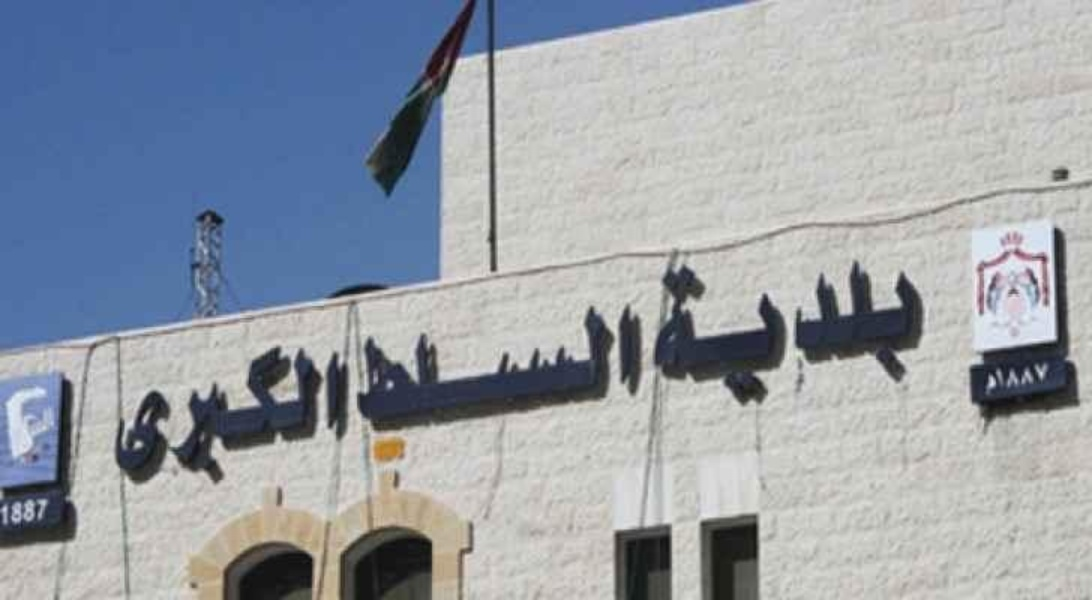text: (657, 250, 672, 417), (673, 250, 688, 417), (689, 250, 704, 417), (705, 250, 720, 417), (721, 250, 736, 417), (737, 250, 752, 417), (753, 250, 768, 417), (769, 250, 784, 417), (785, 250, 800, 417), (801, 250, 816, 417), (817, 250, 832, 417), (833, 250, 848, 417), (849, 250, 864, 417), (865, 250, 880, 417), (881, 250, 896, 417), (897, 250, 912, 417), (913, 250, 928, 417), (113, 329, 128, 487), (129, 329, 144, 487), (145, 329, 160, 487), (161, 329, 176, 487), (177, 329, 192, 487), (193, 329, 208, 487), (209, 329, 224, 487), (225, 329, 240, 487), (241, 329, 256, 487), (257, 329, 272, 487), (273, 329, 288, 487), (289, 329, 304, 487), (305, 329, 320, 487), (321, 329, 336, 487), (337, 329, 352, 487), (353, 295, 368, 430), (369, 295, 384, 430), (385, 295, 400, 430), (401, 295, 416, 430), (417, 295, 432, 430), (433, 295, 448, 430), (449, 295, 464, 430), (465, 295, 480, 430), (481, 295, 496, 430), (497, 295, 512, 430), (513, 295, 528, 430), (529, 295, 544, 430), (545, 295, 560, 430), (561, 295, 576, 430), (577, 295, 592, 430), (593, 295, 608, 430), (609, 295, 624, 430), (625, 295, 640, 430), (644, 250, 656, 417), (929, 250, 940, 417), (993, 364, 1008, 398), (1009, 364, 1024, 398), (1025, 364, 1040, 398), (1041, 364, 1056, 398), (1, 496, 16, 529), (17, 496, 32, 529), (33, 496, 48, 529), (109, 329, 112, 487), (980, 364, 992, 398), (641, 295, 644, 430), (353, 329, 355, 487), (49, 496, 55, 529), (1057, 364, 1058, 398)
